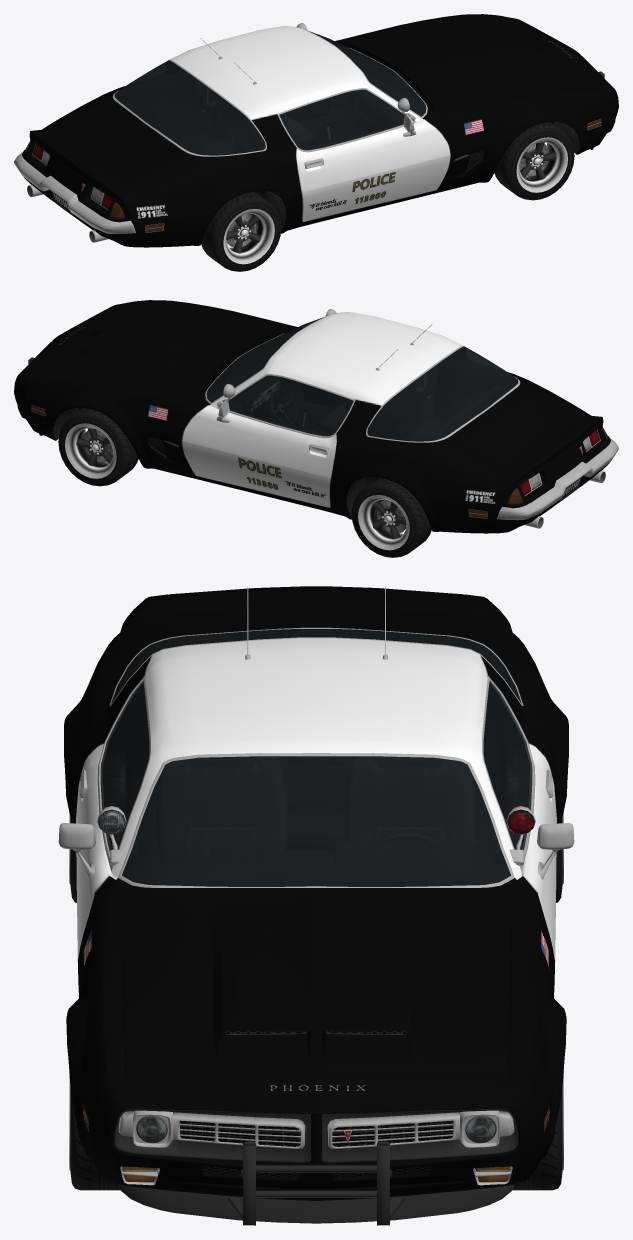
File: phoenix71i.glb
The picture shows the model from 3 angles, top to bottom: view 1: azimuth 30°, elevation 25°; view 2: azimuth 150°, elevation 25°; view 3: azimuth 270°, elevation 25°; orthographic projection. The views are drawn at different scales.
Parts seen in each view (by area): view 1: Phoenix445_Body_Phoenix445_Bodymat_0, Phoenix445_Interior_UCB_Interiors_2_0, Phoenix445_Hood_Phoenix445_Bodymat_0, Phoenix445_Glass_rear_UCB_Lights_and_Glass_Transperent_0, Phoenix445_Trunkdoor_Phoenix445_Bodymat_0, Phoenix445_Glass_Passenger_UCB_Lights_and_Glass_Transperent_, Phoenix445_WheelStock_RR_RB1c_Tire_1k_0, Phoenix445_WheelStock_FR_RB1c_Tire_1k_0, Phoenix445_Bottom_UCB_BOTTOM_0, Phoenix445_Bumper_rear_UCB_BOTTOM_0, Phoenix445_Windshield_UCB_Lights_and_Glass_Transperent_0, Phoenix445_Taillights_Glass_UCB_Lights_and_Glass_Transperent; view 2: Phoenix445_Body_Phoenix445_Bodymat_0, Phoenix445_Hood_Phoenix445_Bodymat_0, Phoenix445_Interior_UCB_Interiors_2_0, Phoenix445_Glass_rear_UCB_Lights_and_Glass_Transperent_0, Phoenix445_Trunkdoor_Phoenix445_Bodymat_0, Phoenix445_Glass_Driver_UCB_Lights_and_Glass_Transperent_0, Phoenix445_WheelStock_RL_RB1c_Tire_1k_0, Phoenix445_WheelStock_FL_RB1c_Tire_1k_0, Phoenix445_Bottom_UCB_BOTTOM_0, Phoenix445_Bumper_rear_UCB_BOTTOM_0, Phoenix445_Windshield_UCB_Lights_and_Glass_Transperent_0, Phoenix445_Taillights_Glass_UCB_Lights_and_Glass_Transperent (+1 smaller); view 3: Phoenix445_Body_Phoenix445_Bodymat_0, Phoenix445_Hood_Phoenix445_Bodymat_0, Phoenix445_Interior_UCB_Interiors_2_0, Phoenix445_Windshield_UCB_Lights_and_Glass_Transperent_0, Phoenix445_Bottom_UCB_BOTTOM_0, Phoenix445_Trunkdoor_Phoenix445_Bodymat_0, Phoenix445_Glass_Driver_UCB_Lights_and_Glass_Transperent_0, Phoenix445_Glass_Passenger_UCB_Lights_and_Glass_Transperent_, Phoenix445_Bullbar_UCB_BOTTOM_0, Phoenix445_Glass_rear_UCB_Lights_and_Glass_Transperent_0, Phoenix445_WheelStock_FL_RB1c_Tire_1k_0, Phoenix445_WheelStock_FR_RB1c_Tire_1k_0 (+5 smaller).
Part boxes in pixels (<box>): Phoenix445_Body_Phoenix445_Bodymat_0: <box>22,14,618,247</box>; Phoenix445_Interior_UCB_Interiors_2_0: <box>115,47,425,154</box>; Phoenix445_Hood_Phoenix445_Bodymat_0: <box>339,18,597,111</box>; Phoenix445_Glass_rear_UCB_Lights_and_Glass_Transperent_0: <box>114,60,265,155</box>; Phoenix445_Trunkdoor_Phoenix445_Bodymat_0: <box>34,104,177,193</box>; Phoenix445_Glass_Passenger_UCB_Lights_and_Glass_Transperent_: <box>279,89,404,150</box>; Phoenix445_WheelStock_RR_RB1c_Tire_1k_0: <box>201,191,281,271</box>; Phoenix445_WheelStock_FR_RB1c_Tire_1k_0: <box>494,122,574,200</box>; Phoenix445_Bottom_UCB_BOTTOM_0: <box>27,27,601,242</box>; Phoenix445_Bumper_rear_UCB_BOTTOM_0: <box>14,152,135,233</box>; Phoenix445_Windshield_UCB_Lights_and_Glass_Transperent_0: <box>309,31,426,116</box>; Phoenix445_Taillights_Glass_UCB_Lights_and_Glass_Transperent: <box>24,141,163,232</box>; Phoenix445_Body_Phoenix445_Bodymat_0: <box>14,300,610,533</box>; Phoenix445_Hood_Phoenix445_Bodymat_0: <box>35,304,293,397</box>; Phoenix445_Interior_UCB_Interiors_2_0: <box>207,333,517,440</box>; Phoenix445_Glass_rear_UCB_Lights_and_Glass_Transperent_0: <box>367,346,518,441</box>; Phoenix445_Trunkdoor_Phoenix445_Bodymat_0: <box>455,390,598,479</box>; Phoenix445_Glass_Driver_UCB_Lights_and_Glass_Transperent_0: <box>228,375,353,436</box>; Phoenix445_WheelStock_RL_RB1c_Tire_1k_0: <box>351,477,431,557</box>; Phoenix445_WheelStock_FL_RB1c_Tire_1k_0: <box>58,408,138,486</box>; Phoenix445_Bottom_UCB_BOTTOM_0: <box>31,313,605,528</box>; Phoenix445_Bumper_rear_UCB_BOTTOM_0: <box>497,438,618,519</box>; Phoenix445_Windshield_UCB_Lights_and_Glass_Transperent_0: <box>206,317,323,402</box>; Phoenix445_Taillights_Glass_UCB_Lights_and_Glass_Transperent: <box>469,427,608,518</box>; Phoenix445_Body_Phoenix445_Bodymat_0: <box>64,594,568,1200</box>; Phoenix445_Hood_Phoenix445_Bodymat_0: <box>122,886,510,1079</box>; Phoenix445_Interior_UCB_Interiors_2_0: <box>103,629,529,886</box>; Phoenix445_Windshield_UCB_Lights_and_Glass_Transperent_0: <box>122,756,510,886</box>; Phoenix445_Bottom_UCB_BOTTOM_0: <box>58,627,574,1223</box>; Phoenix445_Trunkdoor_Phoenix445_Bodymat_0: <box>169,586,463,635</box>; Phoenix445_Glass_Driver_UCB_Lights_and_Glass_Transperent_0: <box>483,681,532,850</box>; Phoenix445_Glass_Passenger_UCB_Lights_and_Glass_Transperent_: <box>100,681,149,850</box>; Phoenix445_Bullbar_UCB_BOTTOM_0: <box>228,1141,404,1225</box>; Phoenix445_Glass_rear_UCB_Lights_and_Glass_Transperent_0: <box>111,629,521,702</box>; Phoenix445_WheelStock_FL_RB1c_Tire_1k_0: <box>513,1069,563,1190</box>; Phoenix445_WheelStock_FR_RB1c_Tire_1k_0: <box>69,1073,119,1190</box>.
Bounding box in the file's own units: 4.98 × 1.51 × 2.09.
8 materials, 8 textured.
